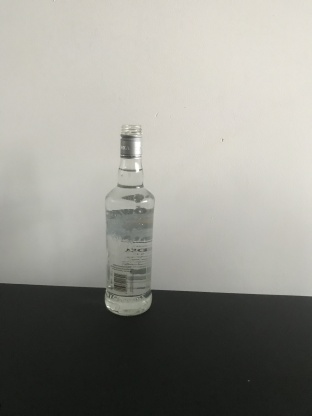nakretka: (118, 122, 144, 161)
